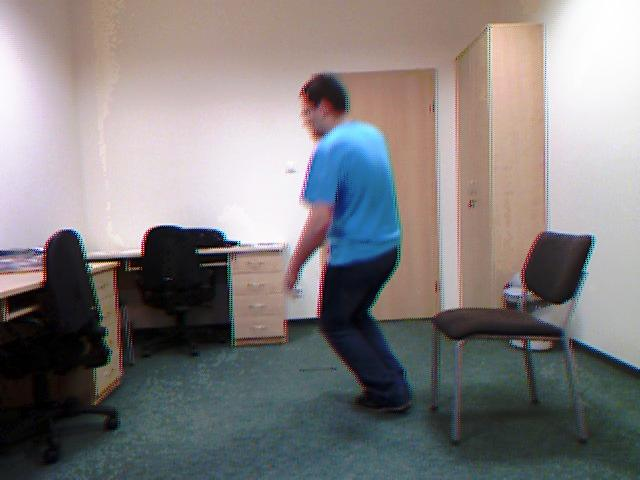near-fall: (276, 48, 431, 436)
